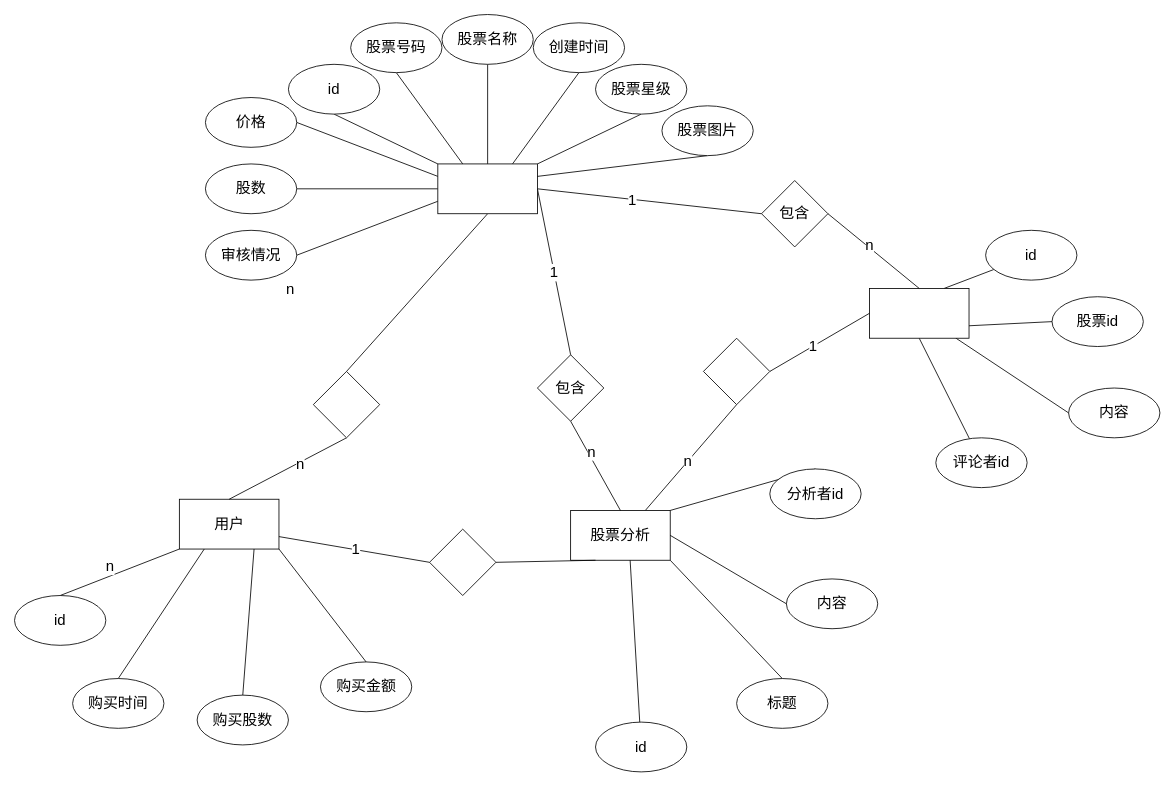
Image size: 1174x787. Some labels were removed from this diagram. The box of each missing label's shape, as (x1, y1, x2, y2) in pixels:
发表: (429, 528, 496, 596)
售卖: (312, 371, 380, 438)
影响: (703, 337, 770, 405)
股票: (437, 163, 537, 214)
股票趋势: (869, 288, 969, 338)
